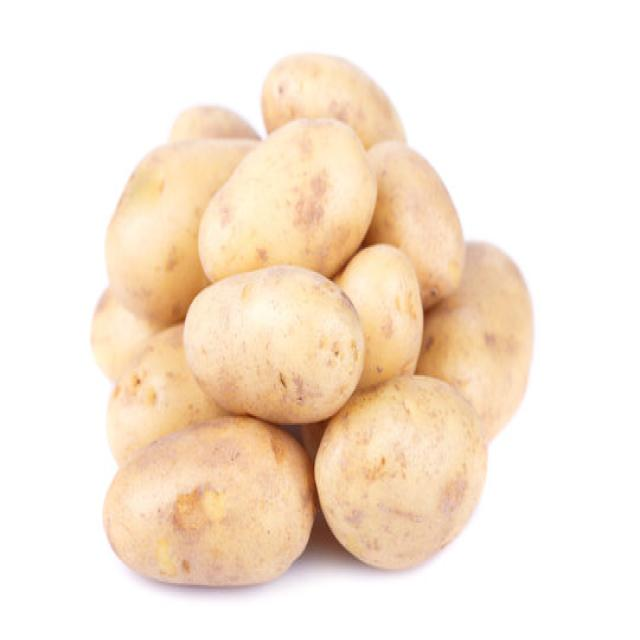Potato: (102, 414, 316, 587), (313, 372, 487, 570), (197, 115, 377, 282), (181, 263, 365, 425), (103, 135, 260, 324), (415, 238, 533, 443), (362, 137, 464, 309), (260, 50, 406, 151)
